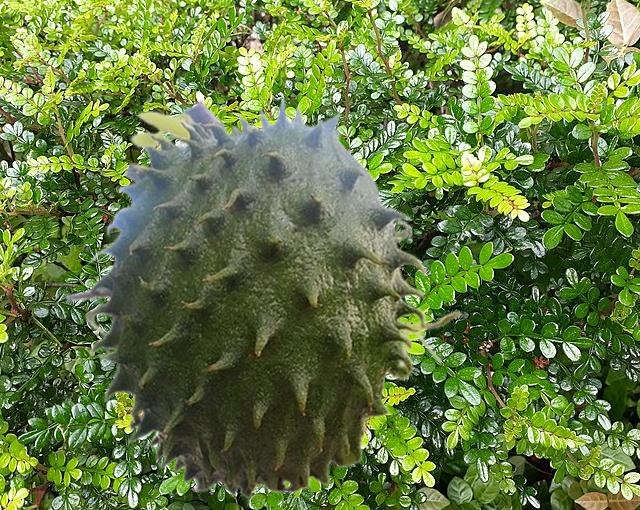guyabano: (64, 94, 463, 500)
